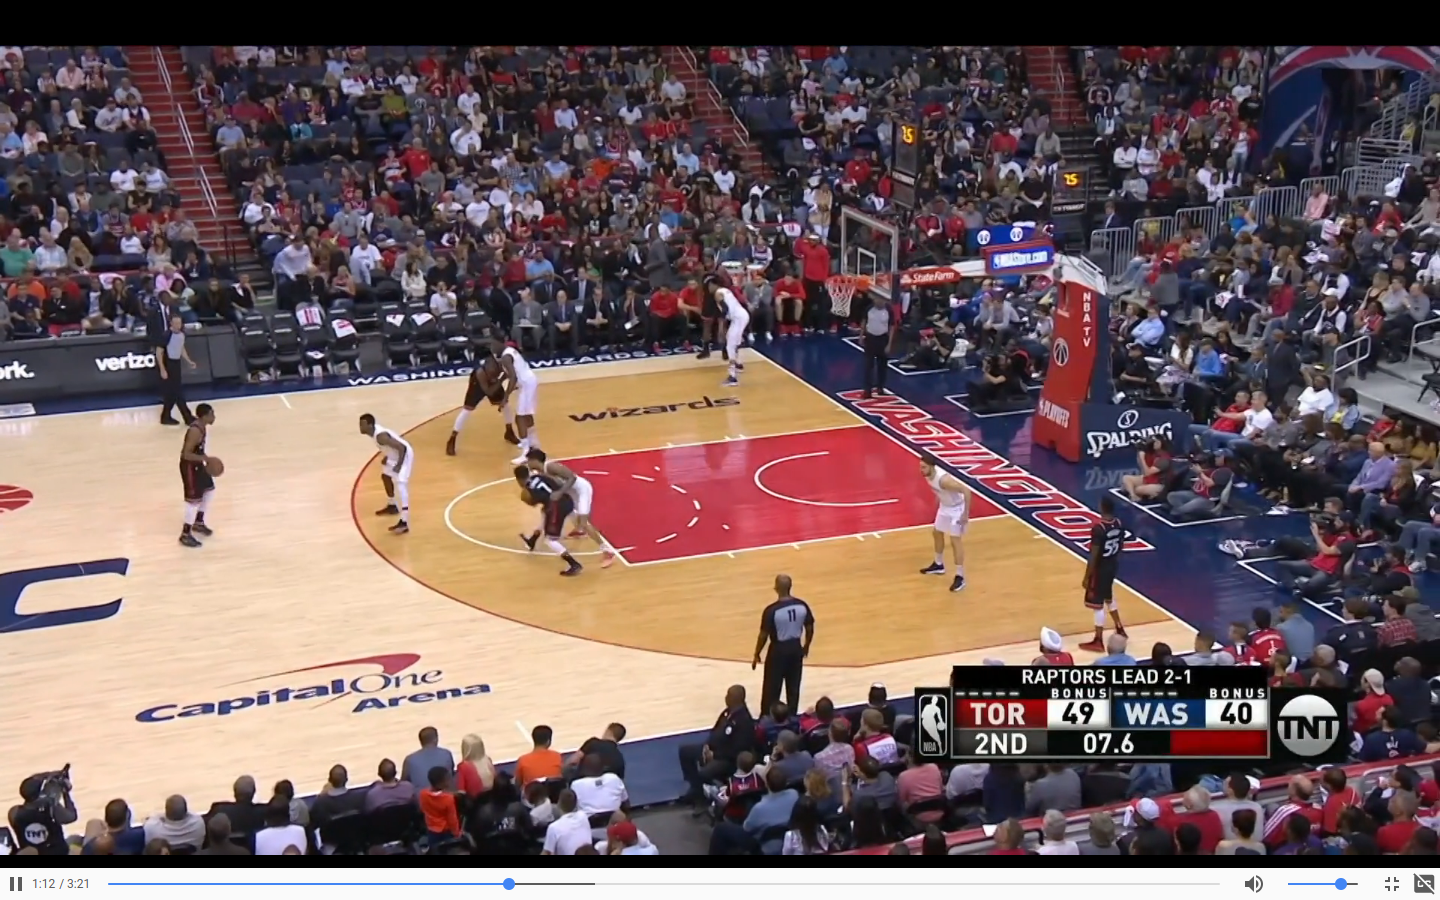basketball: (202, 451, 224, 482)
basketball player: (1078, 491, 1138, 654), (353, 408, 419, 539), (915, 456, 975, 596), (439, 357, 507, 468), (176, 399, 224, 557), (536, 448, 605, 551), (498, 334, 545, 449), (518, 472, 565, 579), (708, 285, 755, 382), (696, 248, 725, 365)
referee: (747, 571, 815, 716), (155, 312, 193, 436), (859, 297, 899, 403)
